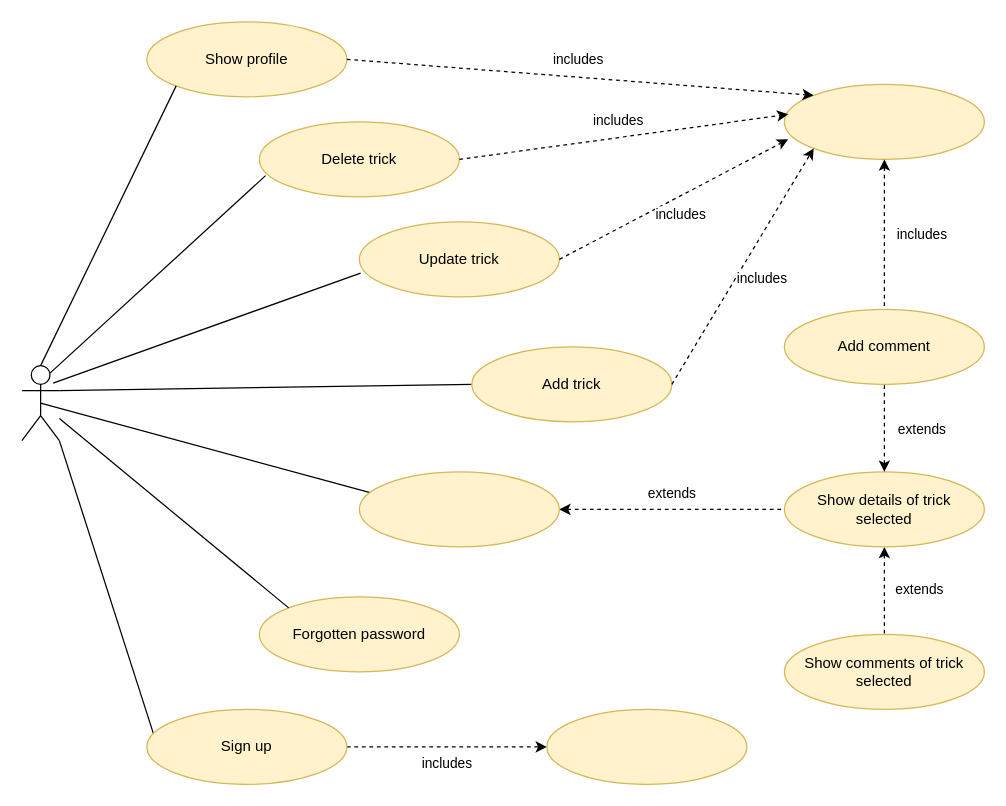
The diagram is 1006 pixels wide and 806 high, and some of its shapes have lost their labels. Each missing label, with the centre of its shape:
"Authenticated" goes at (x=883, y=121).
"Show list of tricks" goes at (x=458, y=509).
"User" goes at (x=40, y=402).
"Validate email" goes at (x=646, y=746).
